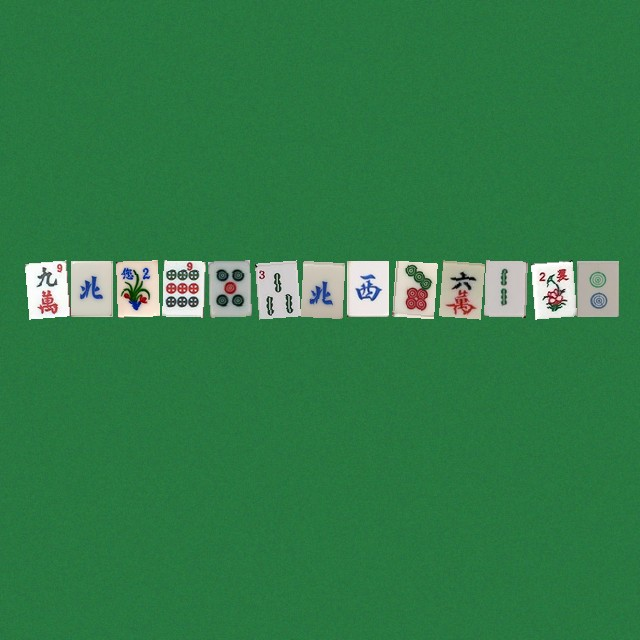tile: (24, 260, 66, 316), (70, 260, 112, 316), (116, 260, 158, 316), (162, 260, 204, 316), (208, 260, 250, 316), (254, 260, 296, 316), (300, 260, 342, 316), (346, 260, 388, 316), (392, 260, 434, 316), (438, 260, 480, 316), (484, 260, 526, 316), (530, 260, 572, 316), (576, 260, 618, 316)
